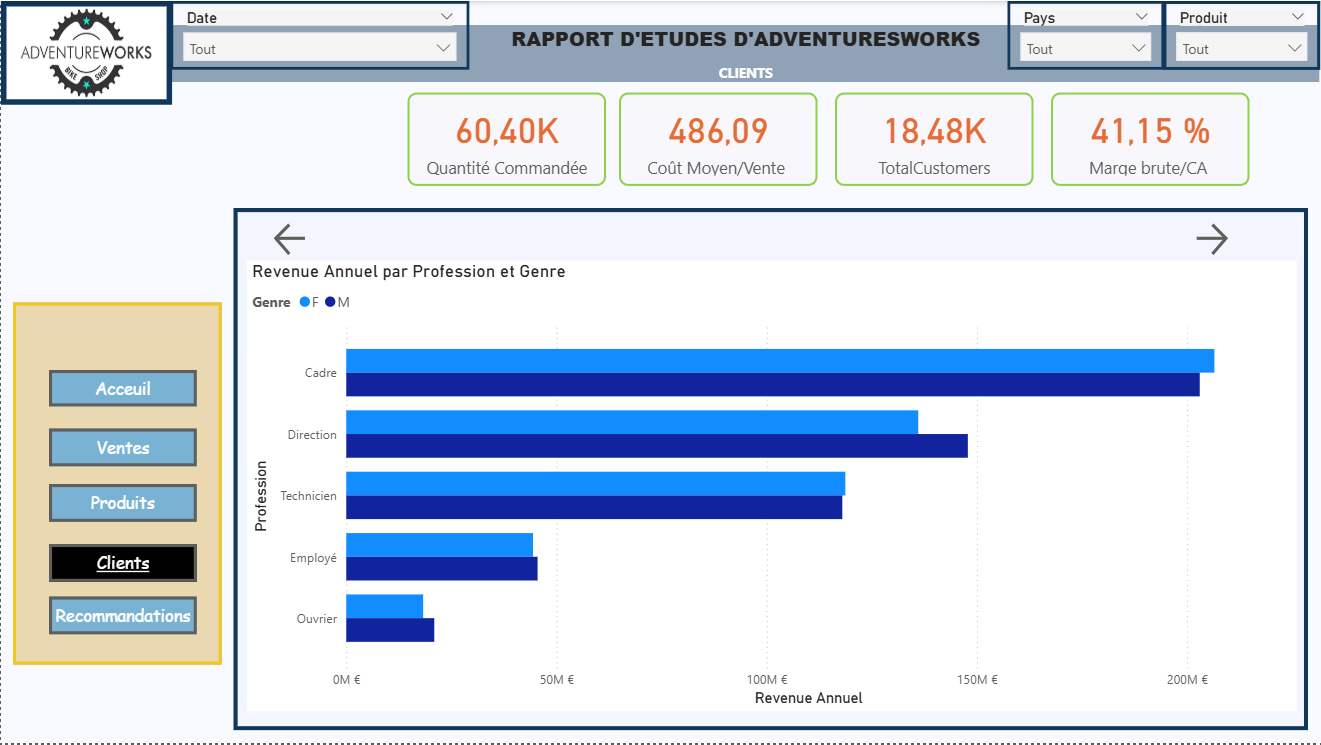

Layout of this report page (visuals, bound fields, positions):
{"tool":"powerbi","page":{"name":"Client 1","canvas":[1280,720],"ordinal":7},"visuals":[{"type":"image","box":[0,0,165.9,100.4],"z":0},{"type":"textbox","title":"RAPPORT D''ETUDES D''ADVENTURESWORKS ","box":[165.9,23.3,1113.5,55.3],"z":1000},{"type":"shape","box":[225.1,200.8,1042.8,506.8],"z":1000,"group":"g2"},{"type":"group","id":"g1","title":"Groupe 1","box":[11.3,293.1,202.4,351.4],"z":2000},{"type":"shape","box":[11.3,293.1,202.4,351.4],"z":2000,"group":"g1"},{"type":"card","fields":{"Values":["DimCustomer._TotalCustomers"]},"box":[809.6,89.1,192.7,90.7],"z":3000},{"type":"slicer","fields":{"Values":["DimGeography.City"]},"box":[1128.6,0,152.2,66.4],"z":4000},{"type":"actionButton","box":[46.1,415.6,143.5,36.7],"z":4000,"group":"g1"},{"type":"slicer","fields":{"Values":["DimGeography.FrenchCountryRegionName"]},"box":[976.4,0,152.2,66.4],"z":5000},{"type":"actionButton","box":[46.1,358.4,143.5,35.4],"z":5000,"group":"g1"},{"type":"slicer","fields":{"Values":["DimProduct.FrenchProductName"]},"box":[1127.8,0,152.2,66.4],"z":6000},{"type":"actionButton","box":[46.1,468.7,143.5,36.7],"z":6000,"group":"g1"},{"type":"slicer","fields":{"Values":["DimDate.FullDateAlternateKey.Variation.Hiérarchie de dates.Année"]},"box":[165.2,0,289.8,66.4],"z":7000},{"type":"actionButton","box":[46.1,527.2,143.5,36.7],"z":7000,"group":"g1"},{"type":"group","id":"g2","title":"Groupe 2","box":[225.1,200.8,1042.8,506.8],"z":8000},{"type":"actionButton","box":[46.1,578.9,143.5,36.7],"z":8000,"group":"g1"},{"type":"card","fields":{"Values":["FactInternetSales._Order_Quantity"]},"box":[395.1,89.1,192.7,90.7],"z":9000},{"type":"card","fields":{"Values":["FactInternetSales._Mnt/trsx"]},"box":[599.1,89.1,192.7,90.7],"z":10000},{"type":"card","fields":{"Values":["FactInternetSales._ProfitMargin%"]},"box":[1018.5,89.1,192.7,90.7],"z":11000},{"type":"actionButton","box":[260.7,210.5,100.4,40.5],"z":12000},{"type":"clusteredBarChart","fields":{"Category":["DimCustomer.FrenchOccupation"],"Y":["Sum(DimCustomer.YearlyIncome)"],"Series":["DimCustomer.Gender"]},"box":[237.9,251.3,1018.5,437.2],"z":12000,"group":"g2"},{"type":"actionButton","box":[1154.5,210.5,100.4,40.5],"z":13000}]}

Visuals, with their boxes in screenshot pixels (x1, y1, x2, y2), scaled from the page's 1280x720 canvas onto the 1321x745 screenshot:
image: bbox=[0, 0, 171, 104]
"RAPPORT D''ETUDES D''ADVENTURESWORKS " textbox: bbox=[171, 24, 1320, 81]
shape: bbox=[232, 208, 1309, 732]
"Groupe 1" group: bbox=[12, 303, 221, 667]
shape: bbox=[12, 303, 221, 667]
card - DimCustomer._TotalCustomers: bbox=[836, 92, 1034, 186]
slicer - DimGeography.City: bbox=[1165, 0, 1320, 69]
actionButton: bbox=[48, 430, 196, 468]
slicer - DimGeography.FrenchCountryRegionName: bbox=[1008, 0, 1165, 69]
actionButton: bbox=[48, 371, 196, 407]
slicer - DimProduct.FrenchProductName: bbox=[1164, 0, 1320, 69]
actionButton: bbox=[48, 485, 196, 523]
slicer - DimDate.FullDateAlternateKey.Variation.Hiérarchie de dates.Année: bbox=[170, 0, 470, 69]
actionButton: bbox=[48, 546, 196, 583]
"Groupe 2" group: bbox=[232, 208, 1309, 732]
actionButton: bbox=[48, 599, 196, 637]
card - FactInternetSales._Order_Quantity: bbox=[408, 92, 607, 186]
card - FactInternetSales._Mnt/trsx: bbox=[618, 92, 817, 186]
card - FactInternetSales._ProfitMargin%: bbox=[1051, 92, 1250, 186]
actionButton: bbox=[269, 218, 373, 260]
clusteredBarChart - DimCustomer.FrenchOccupation x Sum(DimCustomer.YearlyIncome): bbox=[246, 260, 1297, 712]
actionButton: bbox=[1191, 218, 1295, 260]
